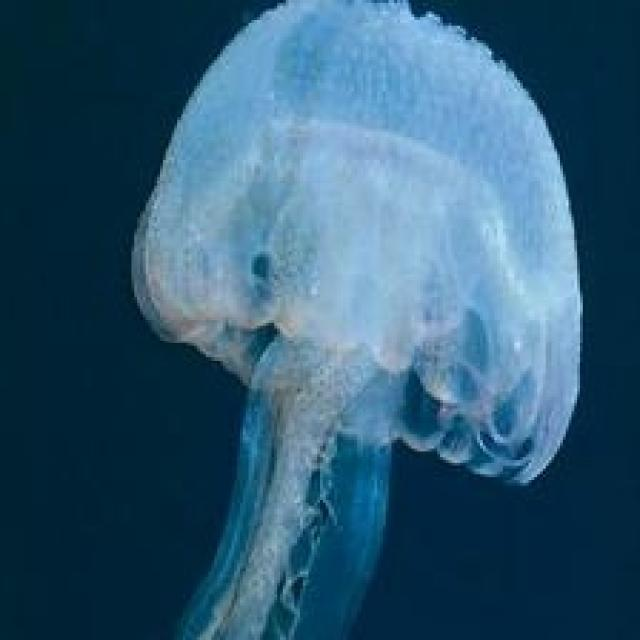Jellyfish: (129, 0, 583, 637)
